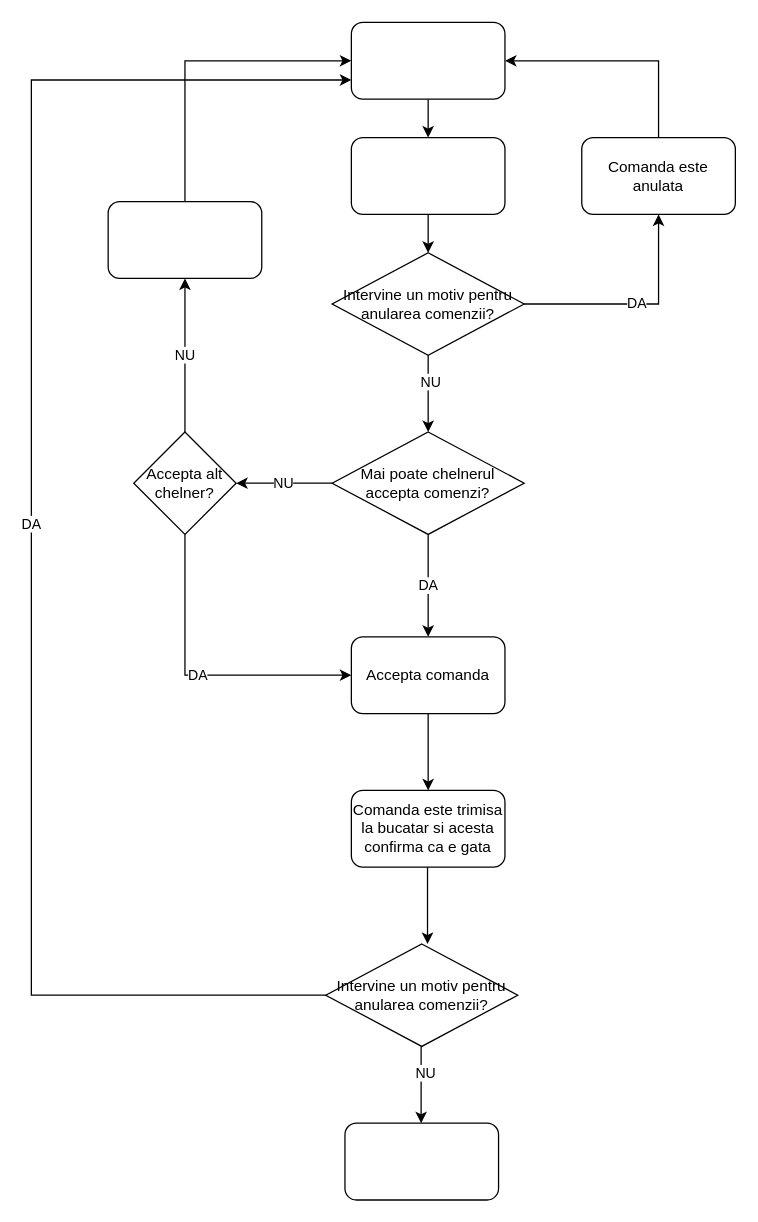
Some shapes in this 758 by 1222 pixel diagram are drawn without their labels. The centre of each missing label's shape, as x and y in pixels:
"Angajatul este pe pagina de profil" goes at point 427,60.
"Angajatul trebuie sa mai livreze comenzi" goes at point 184,239.
"Comanda este livrata si dupa confirmata" goes at point 421,1161.
"Primeste o noua comanda" goes at point 427,175.
